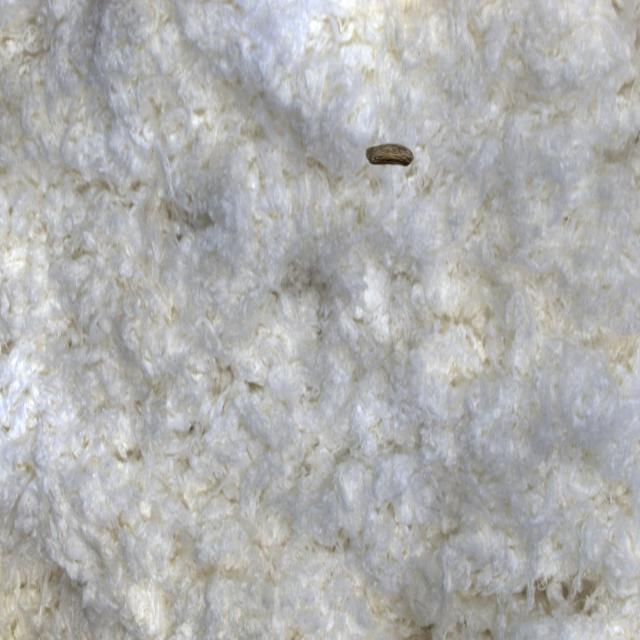dust: (346, 105, 430, 214)
